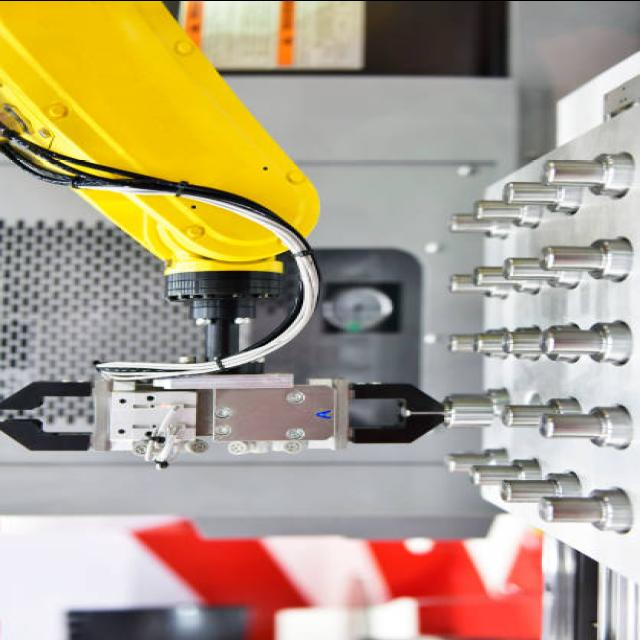Robotic-arm: (0, 0, 326, 372)
